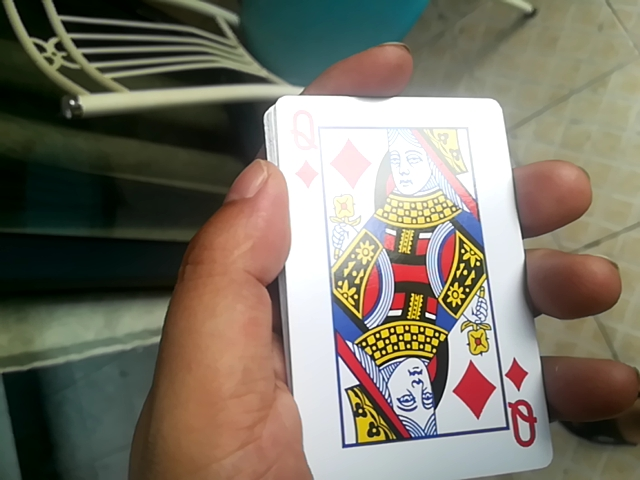fk q: (274, 90, 559, 480)
